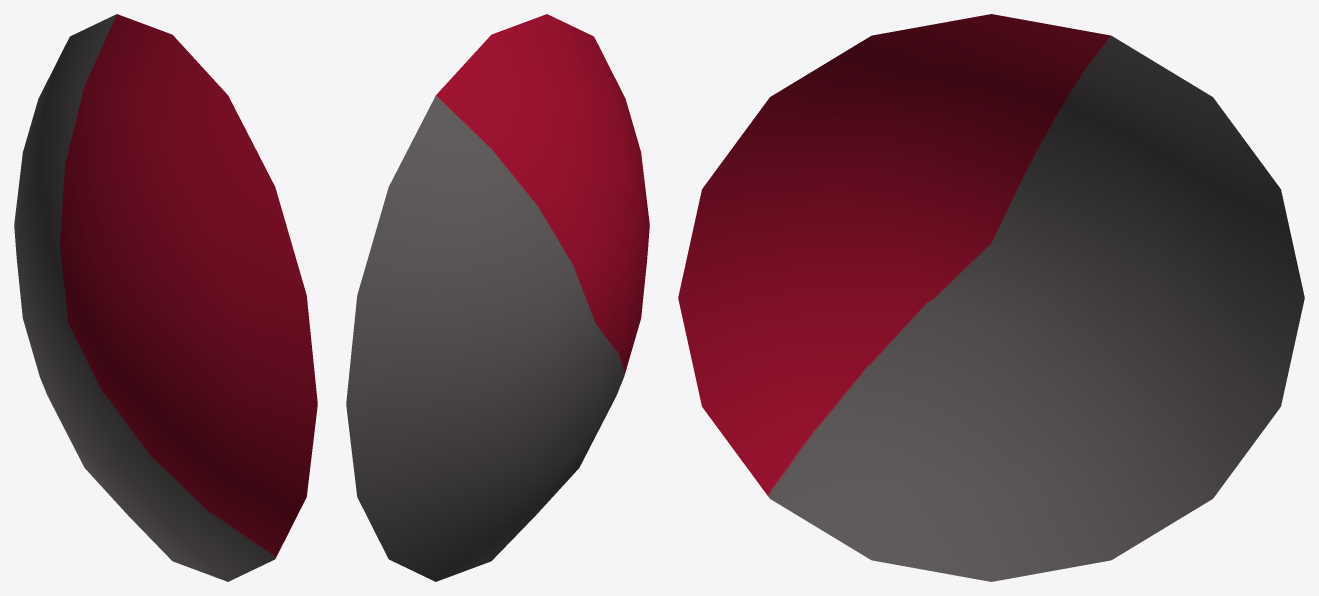
The model's file is glasslamp.fbx.
The picture shows the model from 3 angles, left to right: view 1: azimuth 30°, elevation 25°; view 2: azimuth 150°, elevation 25°; view 3: azimuth 270°, elevation 25°; orthographic projection. The views are drawn at different scales.
Visible parts, largest first — view 1: pSphere2; view 2: pSphere2; view 3: pSphere2.
Part boxes in pixels (<box>): pSphere2: <box>14,14,317,581</box>; pSphere2: <box>346,14,649,581</box>; pSphere2: <box>678,14,1304,581</box>.
Size of the model in its own units: 0.5406 by 2.61 by 2.61.
